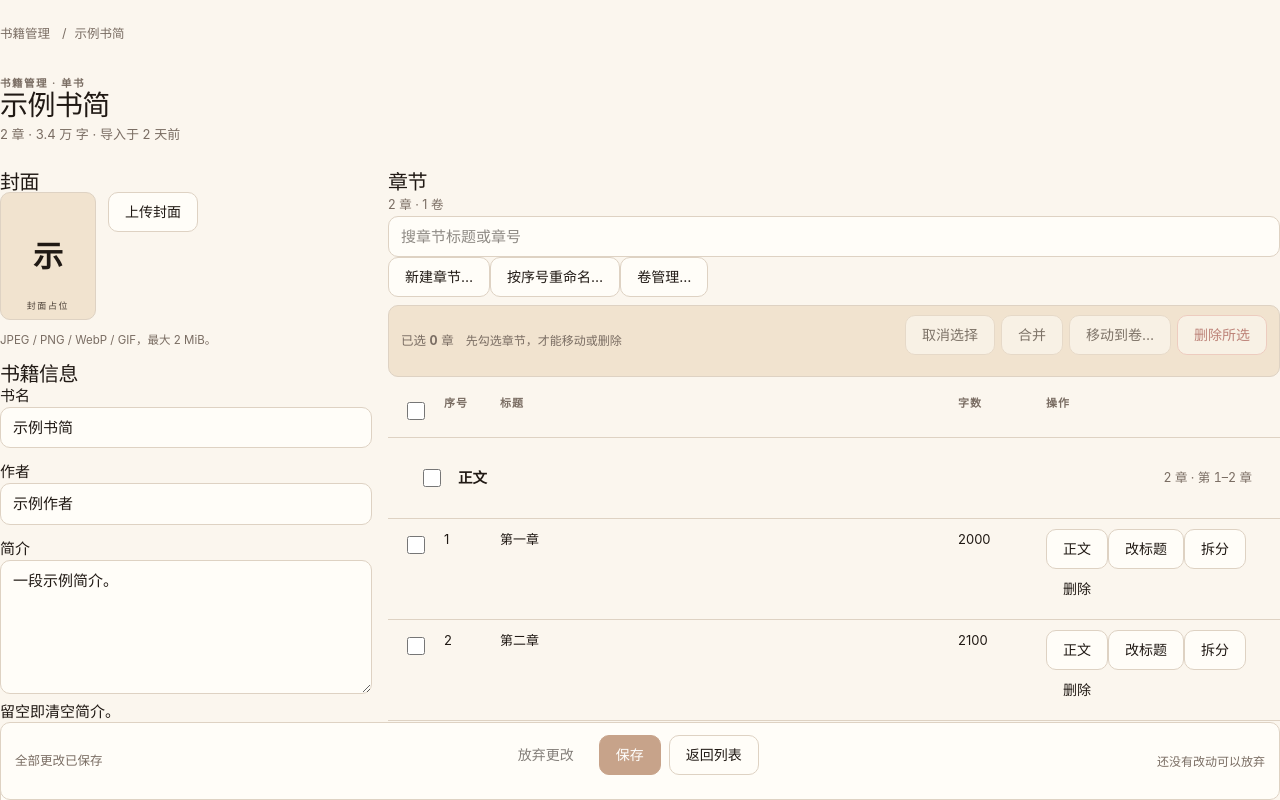
单书管理页 › 点拆分打开拆分面板
Click the button with test id "admin-chapter-split-10". click: (1215, 549)
box: [1184,529,1246,569]
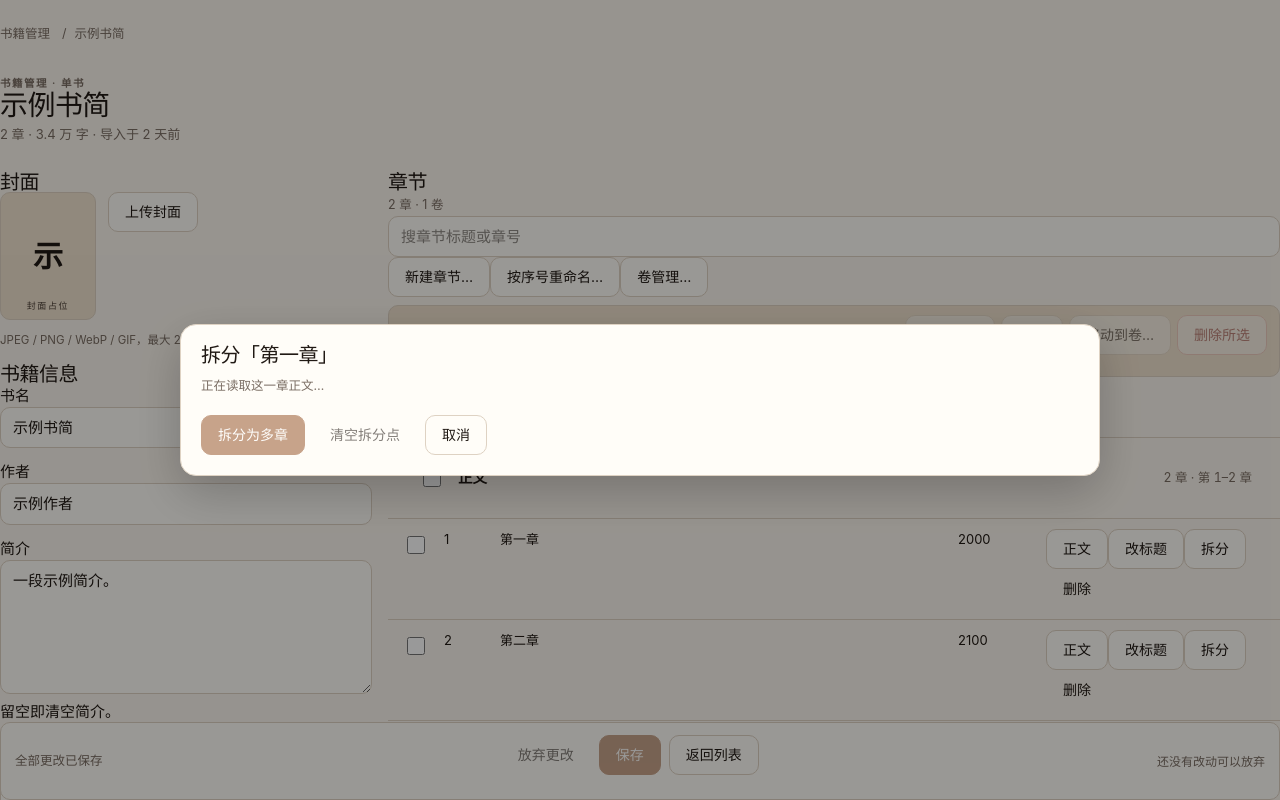
Check: the dialog with test id "split-dialog" is shown, box [180,324,1100,476]
